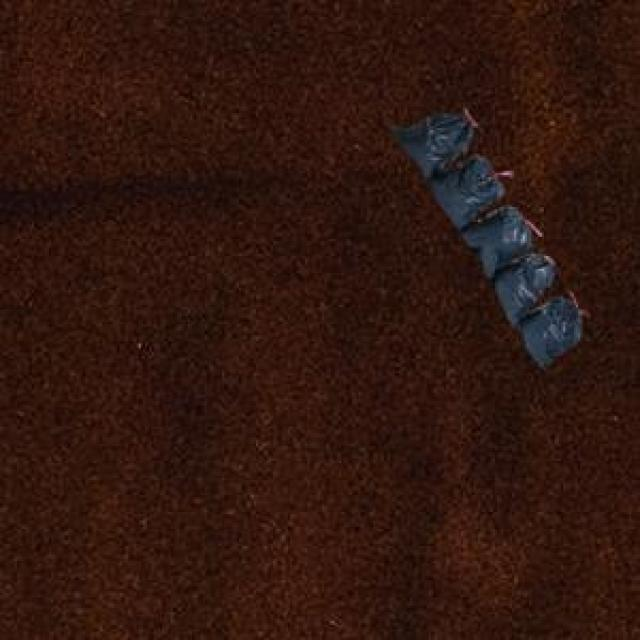waste: (396, 110, 581, 368)
